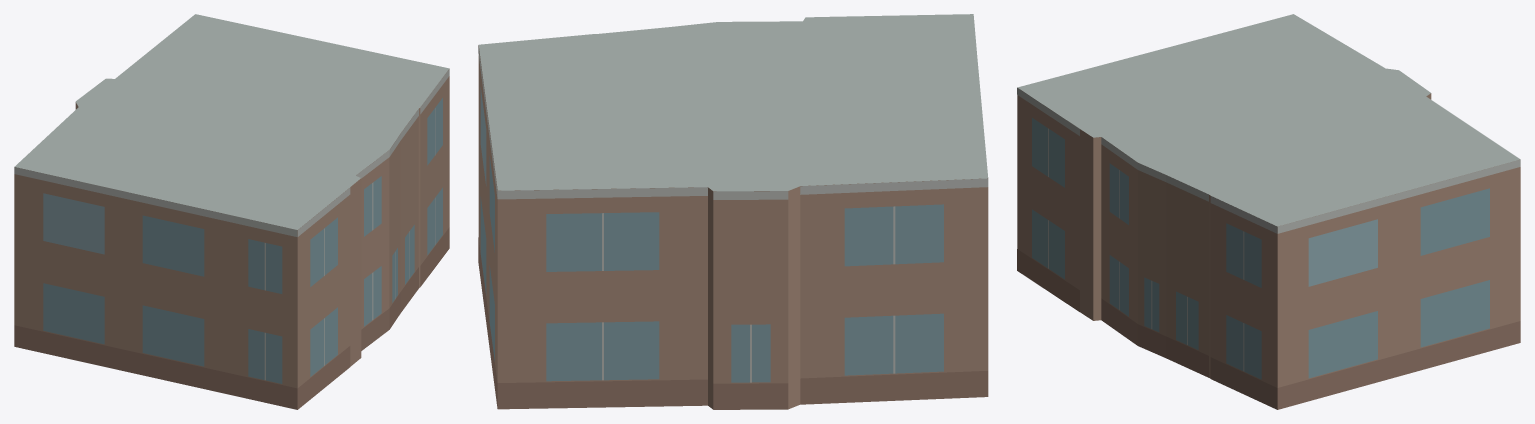
Rendered from survey-upis-32923442.glb.
3 views of the same model, side by side, from view 1: azimuth 30°, elevation 25°; view 2: azimuth 150°, elevation 25°; view 3: azimuth 270°, elevation 25° (orthographic). The views are drawn at different scales.
Visible parts, largest first — view 1: survey-upis-32923442.tmp; view 2: survey-upis-32923442.tmp; view 3: survey-upis-32923442.tmp.
Boxes of the visible parts, bbox=[...] form: survey-upis-32923442.tmp: bbox=[14, 14, 449, 409]; survey-upis-32923442.tmp: bbox=[478, 14, 988, 409]; survey-upis-32923442.tmp: bbox=[1017, 14, 1520, 409].
Bounding box in the file's own units: 15.18 × 6.1 × 15.19.
